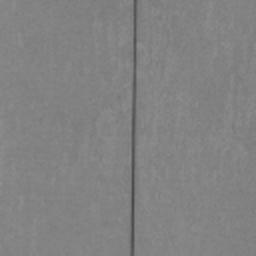Scratches: (130, 0, 138, 256)
